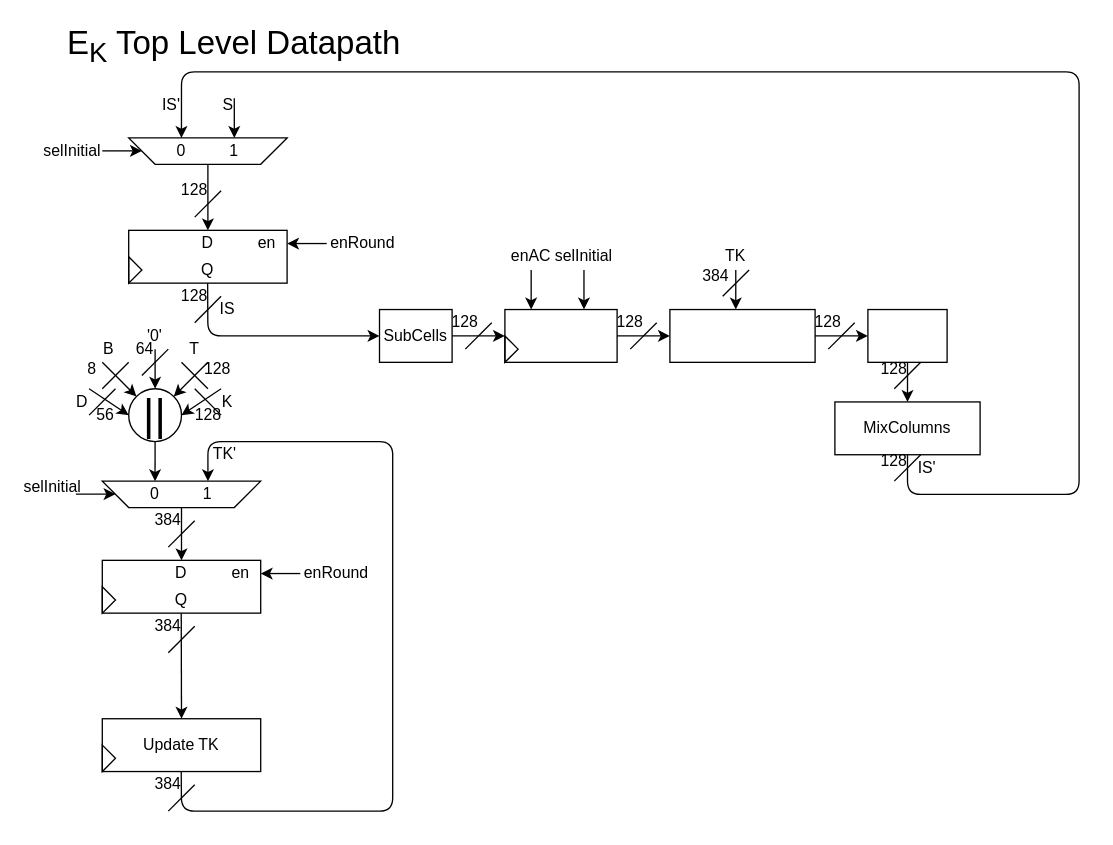
This 1113x845 diagram has some shape labels left out. Here are the shapes that lost their labels. From the top down, the centre of each, then its label:
[560,335]: AddConstants
[742,335]: AddRoundTweakey
[907,335]: ShiftRows
